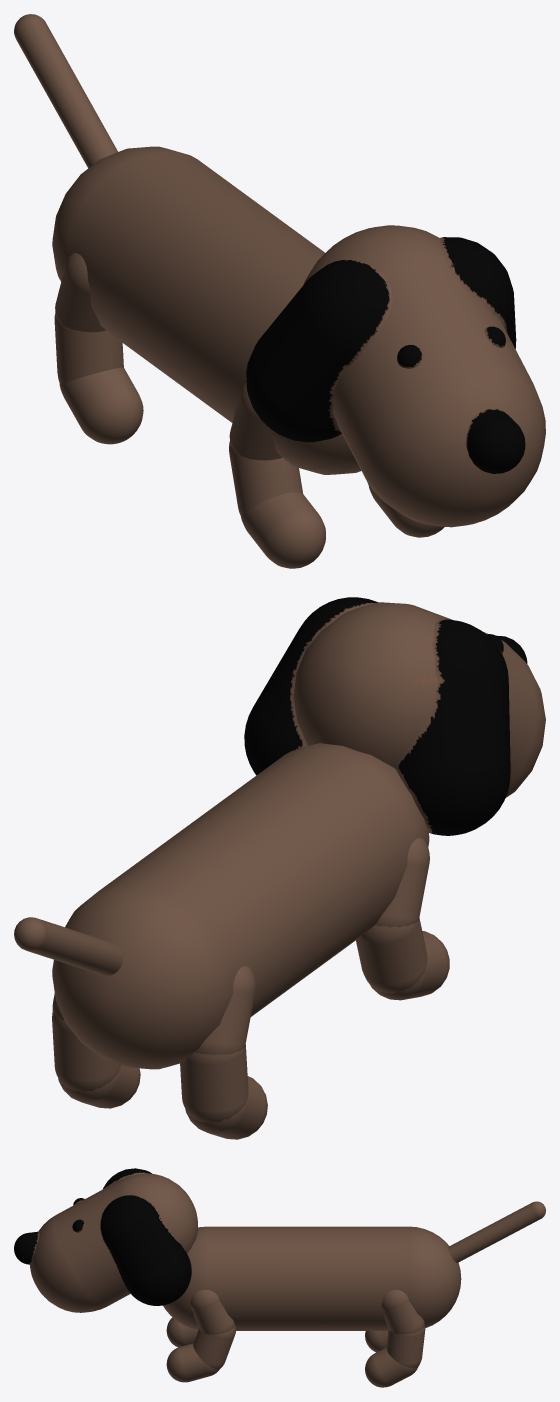
Rendered from dogUntitled.fbx.
The picture shows the model from 3 angles, top to bottom: view 1: azimuth 30°, elevation 25°; view 2: azimuth 150°, elevation 25°; view 3: azimuth 270°, elevation 25°; orthographic projection. The views are drawn at different scales.
Visible parts, largest first — view 1: node_id45, node_id49, node_id47; view 2: node_id45, node_id49; view 3: node_id45, node_id49, node_id47.
Boxes of the visible parts, x1,y1,x2,y2 form: node_id45: (14,14,545,568); node_id49: (246,237,516,442); node_id47: (397,326,525,473); node_id45: (14,602,545,1139); node_id49: (244,597,510,835); node_id45: (30,1173,545,1387); node_id49: (100,1168,191,1305); node_id47: (14,1198,84,1264).
Bounding box in the file's own units: 0.3847 × 0.512 × 1.29.
Materials: 3 (3 with a texture image).
